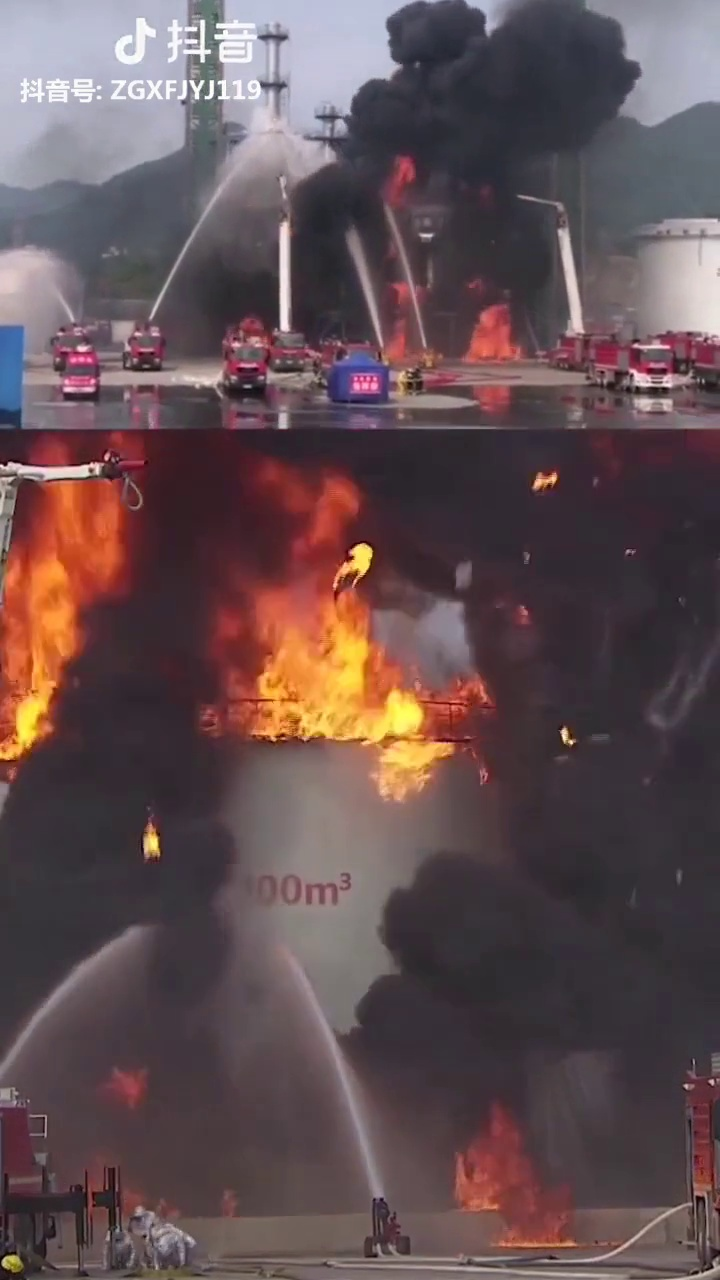fire: (245, 510, 443, 779), (15, 457, 139, 777), (460, 275, 521, 369)
yanwu: (364, 832, 611, 1100)
